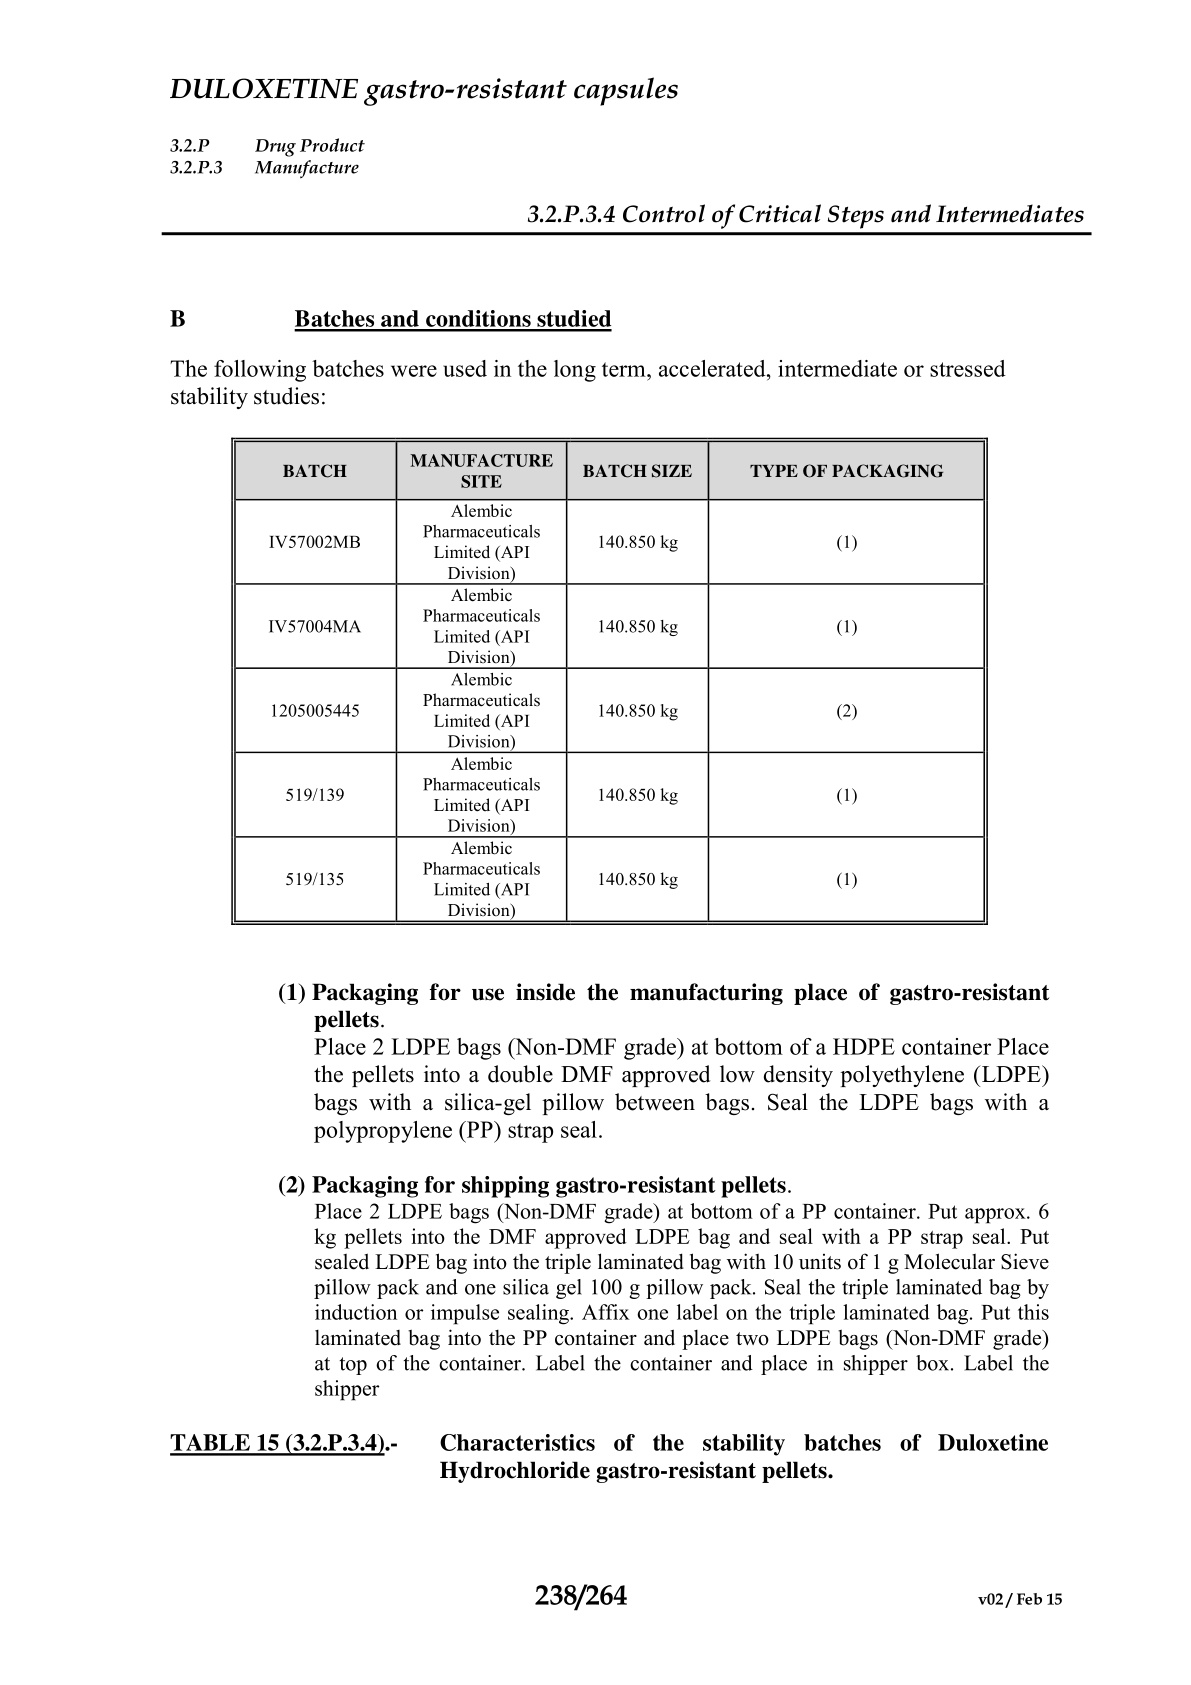full_lined: (231, 437, 989, 926)
